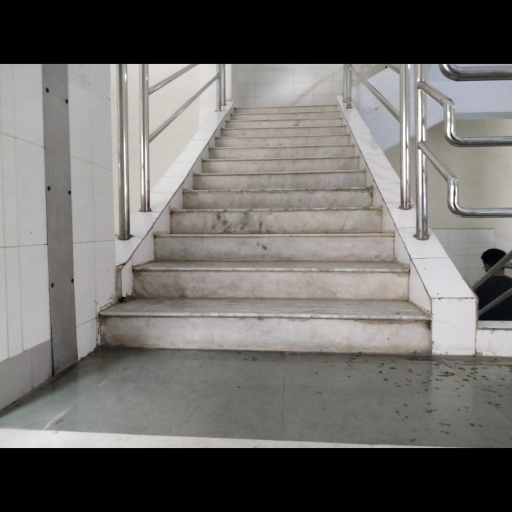Stairs: (100, 106, 429, 353)
